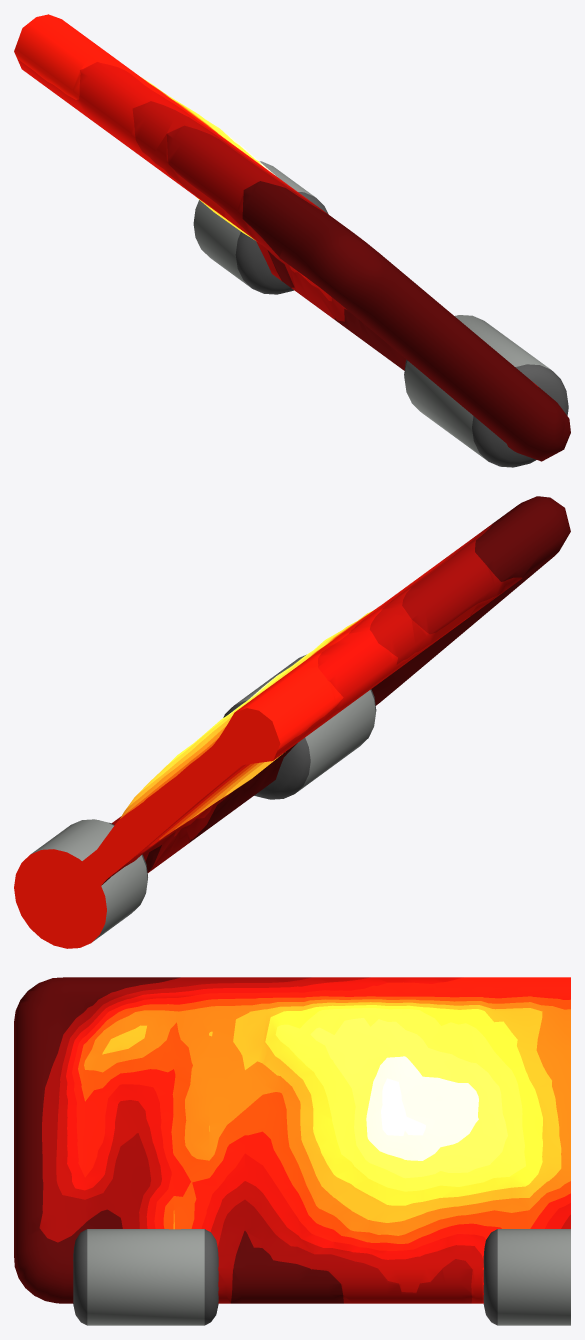
The model's file is fire_flap_41.glb.
The picture shows the model from 3 angles, top to bottom: view 1: azimuth 30°, elevation 25°; view 2: azimuth 150°, elevation 25°; view 3: azimuth 270°, elevation 25°; orthographic projection. The views are drawn at different scales.
Parts seen in each view (by area): view 1: flap.001, knuckle2.001, knuckle1.001; view 2: flap.001, knuckle1.001, knuckle2.001; view 3: flap.001, knuckle2.001, knuckle1.001.
Part boxes in pixels (left/top/right/bottom): flap.001: left=14, top=14, right=570, bottom=461; knuckle2.001: left=404, top=315, right=568, bottom=467; knuckle1.001: left=193, top=161, right=328, bottom=294; flap.001: left=34, top=496, right=570, bottom=926; knuckle1.001: left=14, top=819, right=147, bottom=948; knuckle2.001: left=223, top=654, right=376, bottom=799; flap.001: left=14, top=977, right=570, bottom=1303; knuckle2.001: left=73, top=1229, right=218, bottom=1325; knuckle1.001: left=483, top=1229, right=570, bottom=1325.
Bounding box in the file's own units: 9.44 × 9.65 × 19.
